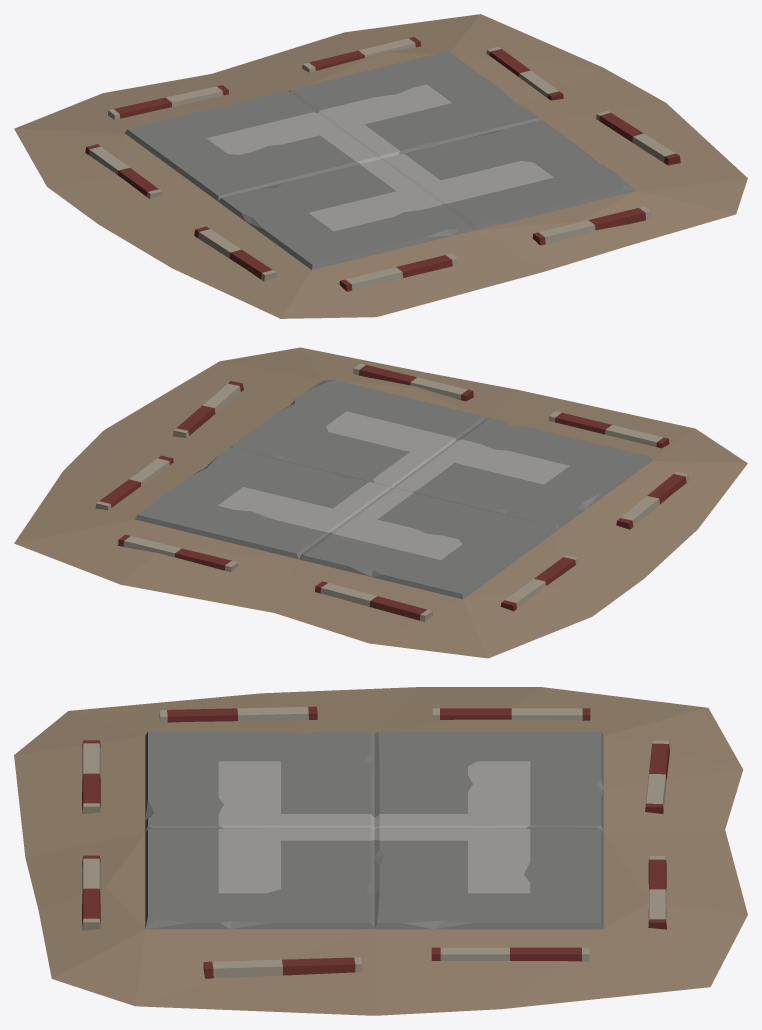
Rendered from SM_Env_Helipad_01.fbx.
3 views of the same model, one above another, from view 1: azimuth 30°, elevation 25°; view 2: azimuth 150°, elevation 25°; view 3: azimuth 270°, elevation 25° (orthographic). The views are drawn at different scales.
Parts seen in each view (by area): view 1: SM_Env_Helipad_01; view 2: SM_Env_Helipad_01; view 3: SM_Env_Helipad_01.
Part boxes in pixels (x1,y1,x2,y2): SM_Env_Helipad_01: (14,14,747,318); SM_Env_Helipad_01: (14,347,747,658); SM_Env_Helipad_01: (14,687,747,1015).
Size of the model in its own units: 3052 by 78.31 by 2880.
